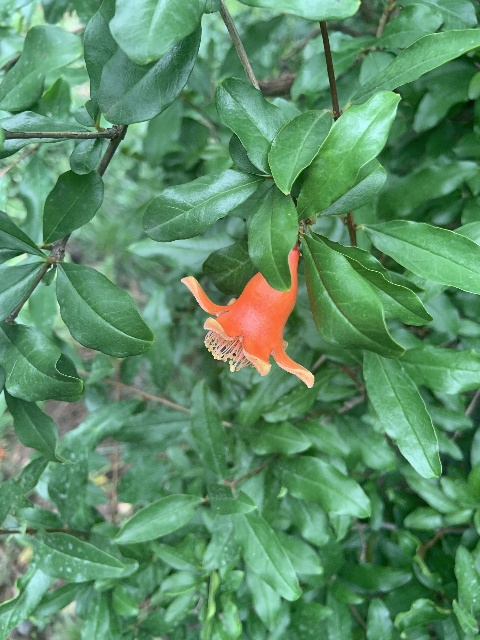flower: (180, 246, 315, 389)
